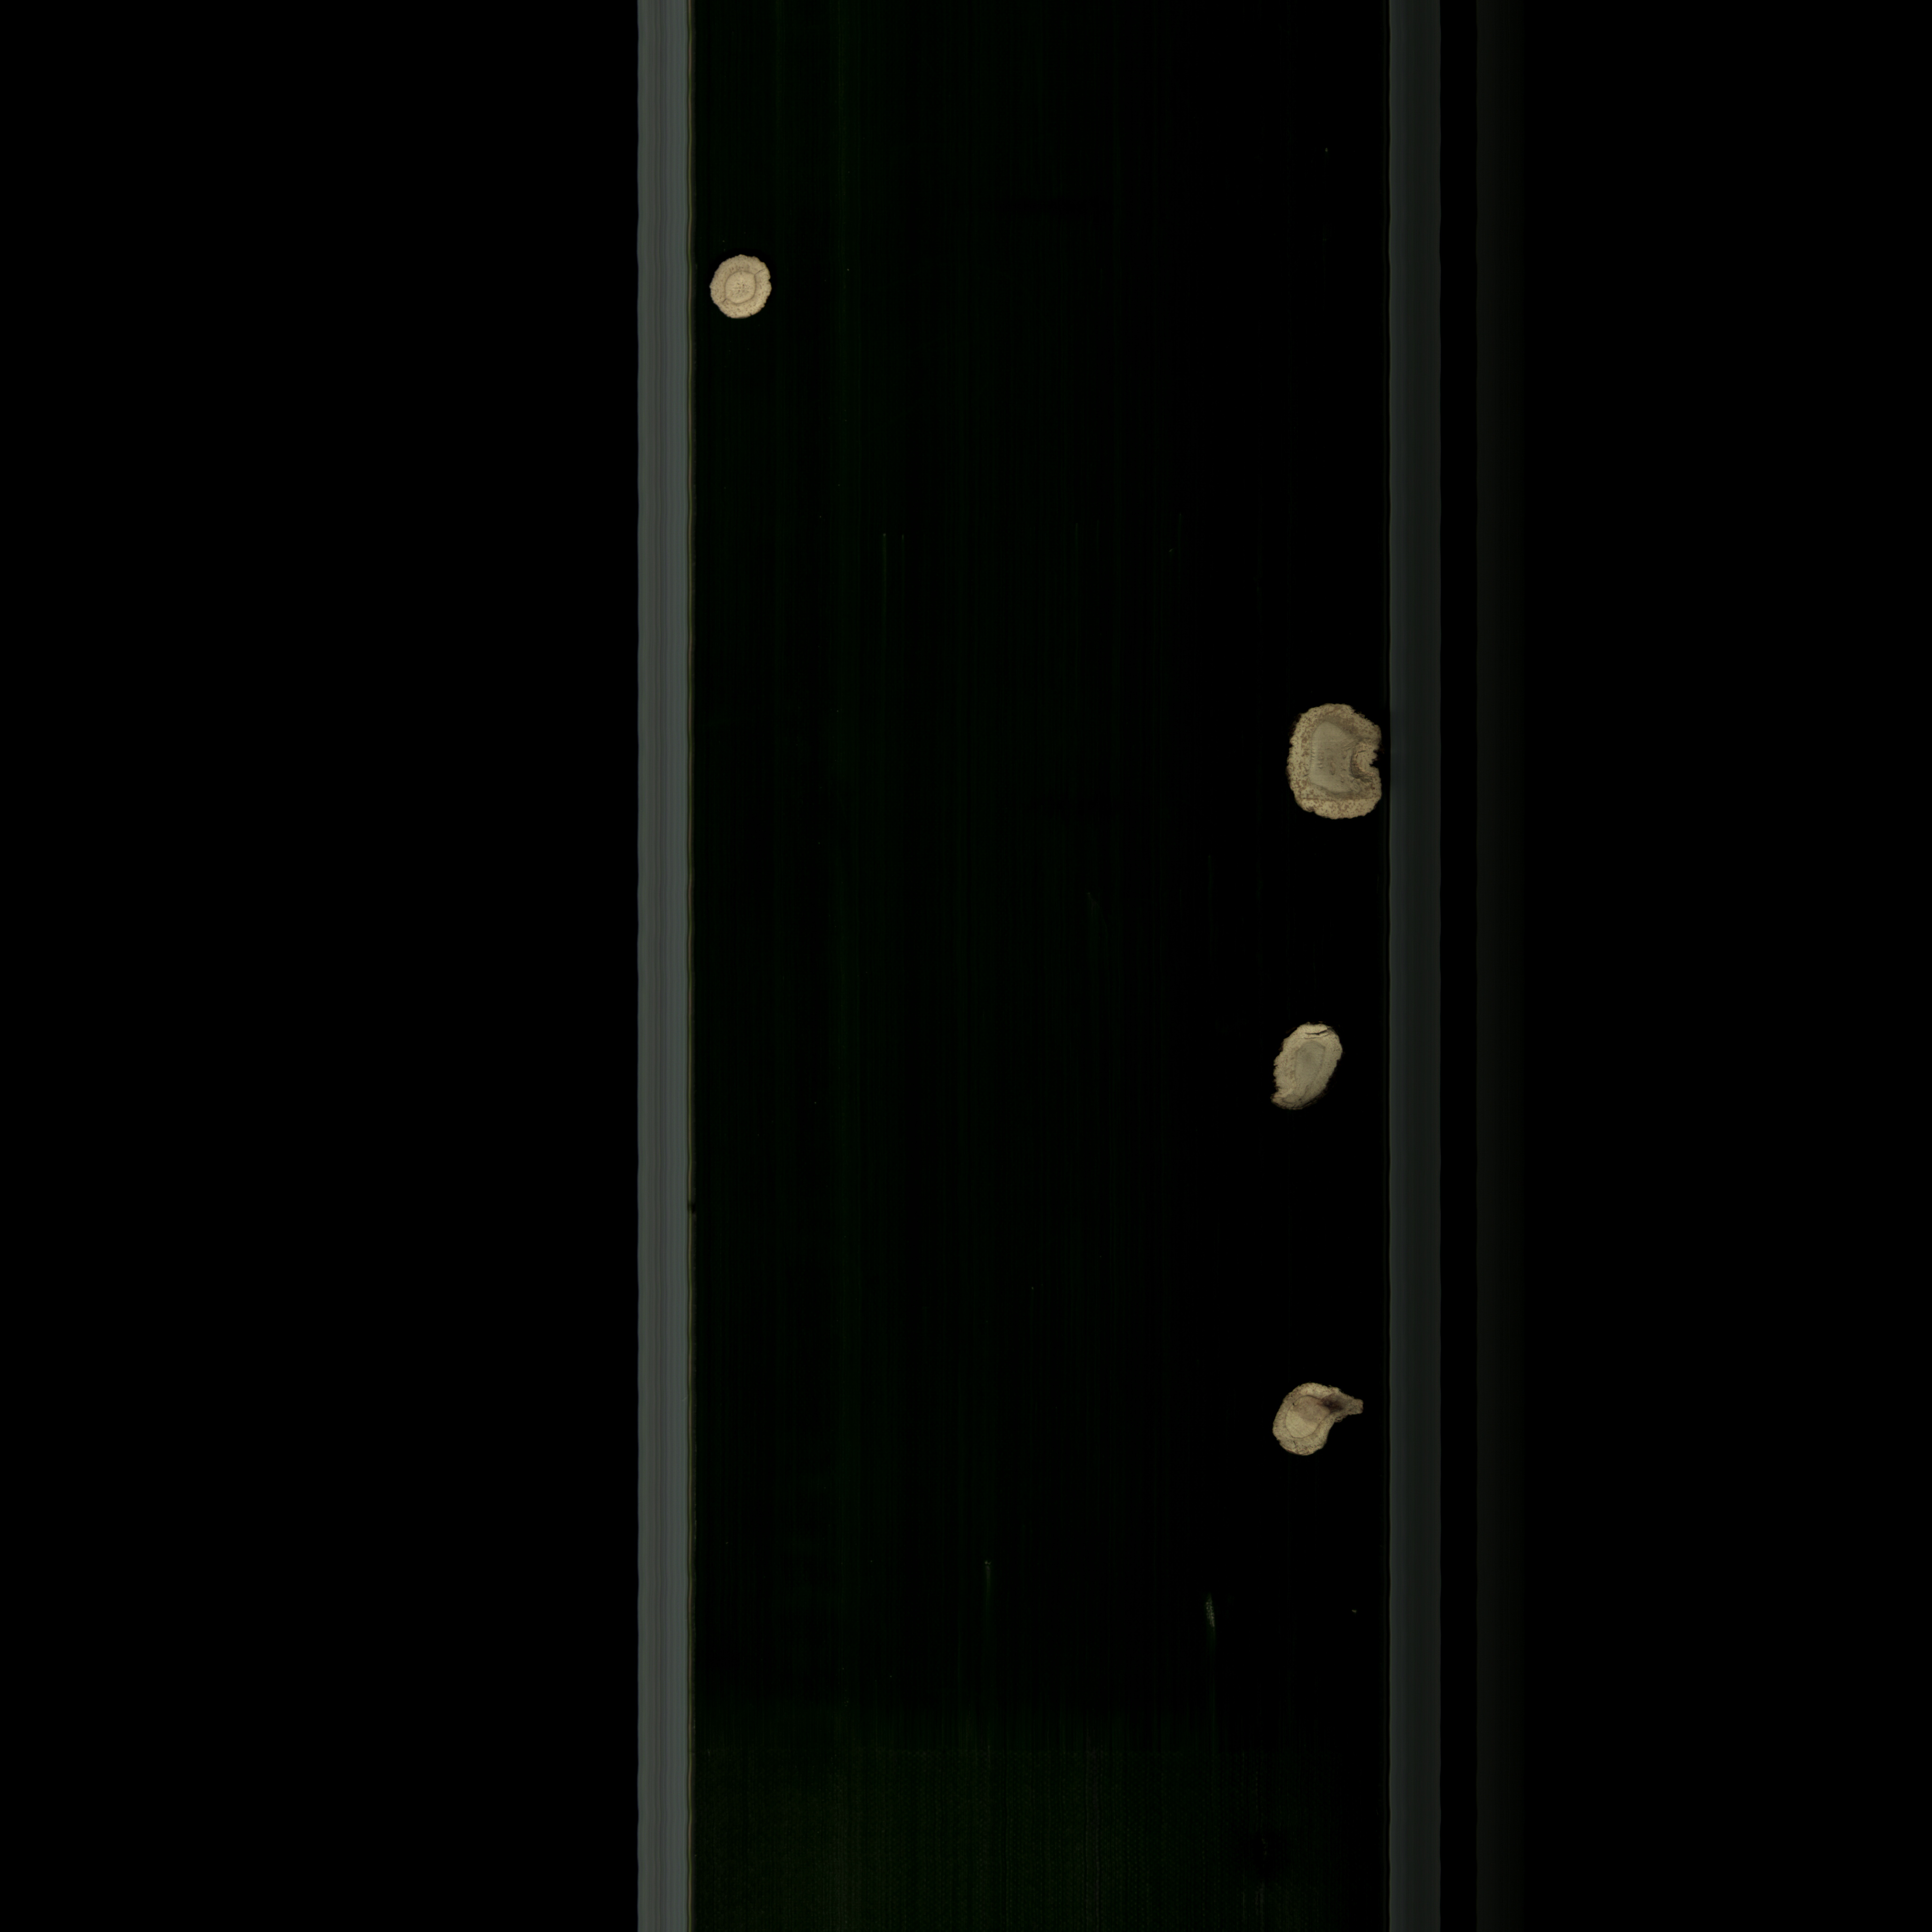debris: (1267, 1012, 1348, 1118)
moldy: (1276, 695, 1389, 828), (1265, 1373, 1375, 1463)
